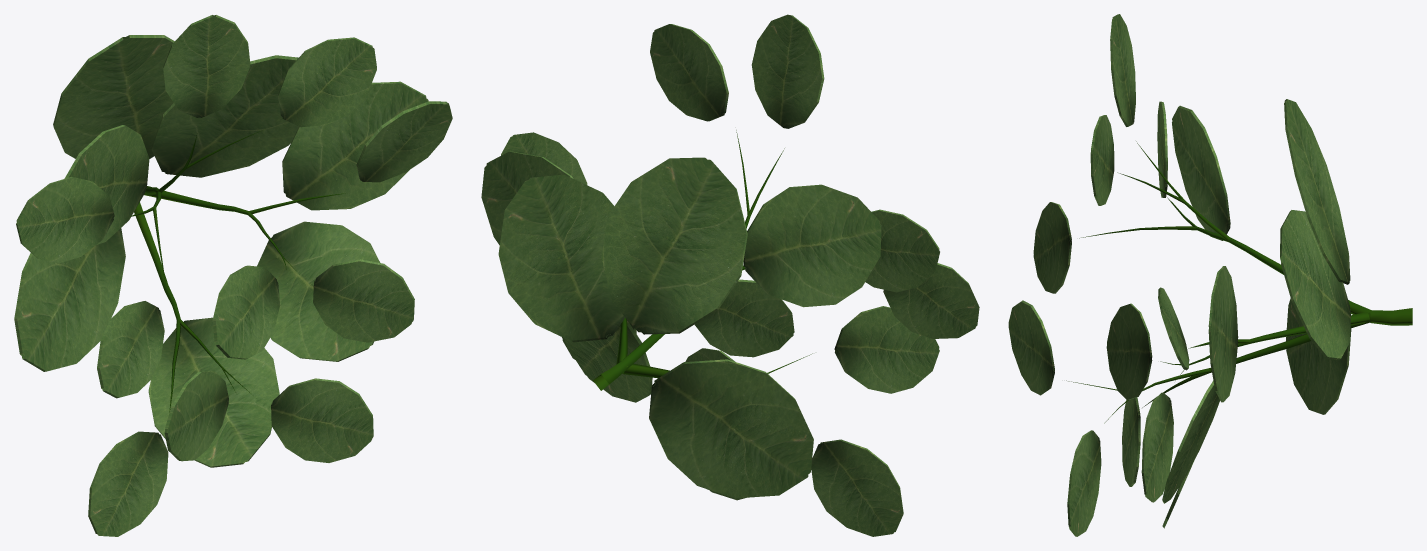
Rendered from plant10.obj.
3 views of the same model, side by side, from view 1: azimuth 30°, elevation 25°; view 2: azimuth 150°, elevation 25°; view 3: azimuth 270°, elevation 25° (orthographic). The views are drawn at different scales.
Parts seen in each view (by area): view 1: leaves.020, tree.020; view 2: leaves.020, tree.020; view 3: leaves.020, tree.020.
Part boxes in pixels (x1,y1,x2,y2): leaves.020: (14,15,452,536); tree.020: (130,130,345,412); leaves.020: (481,14,979,536); tree.020: (593,130,812,390); leaves.020: (1008,14,1351,536); tree.020: (1066,141,1412,423).
Size of the model in its own units: 0.1529 by 0.1671 by 0.1206.
2 materials, 2 textured.
